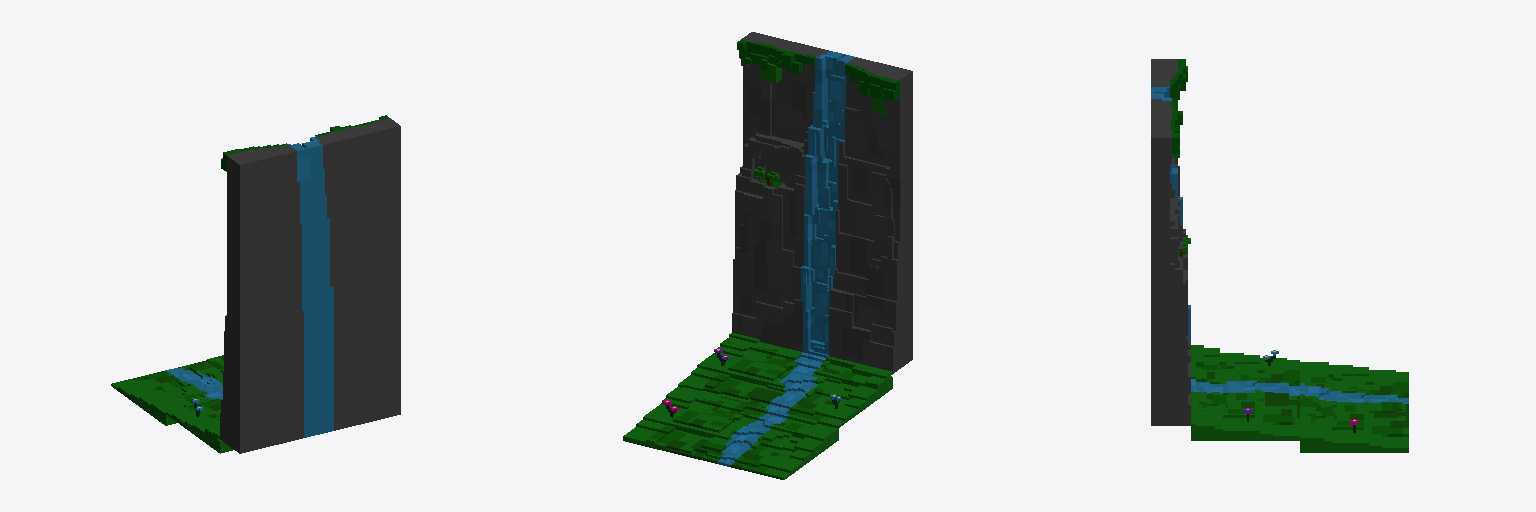
The picture shows the model from 3 angles: view 1: azimuth 30°, elevation 25°; view 2: azimuth 150°, elevation 25°; view 3: azimuth 270°, elevation 25°; orthographic projection.
Parts seen in each view (by area): view 1: object 1; view 2: object 1; view 3: object 1.
Part boxes in pixels (x1,y1,x2,y2): object 1: (111,115,400,453); object 1: (623,32,912,479); object 1: (1151,59,1408,452).
Bounding box in the file's own units: 7 × 13.1 × 9.7.
1 materials, 1 textured.